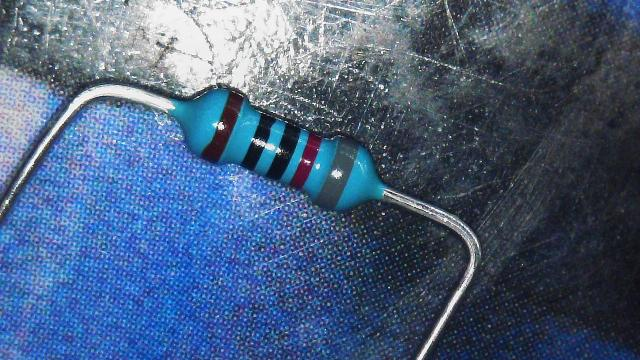black: (265, 124, 300, 181), (247, 114, 272, 168)
brown: (202, 92, 244, 162)
grey: (314, 138, 358, 210)
red: (290, 132, 322, 188)
resistor: (169, 61, 389, 224)
